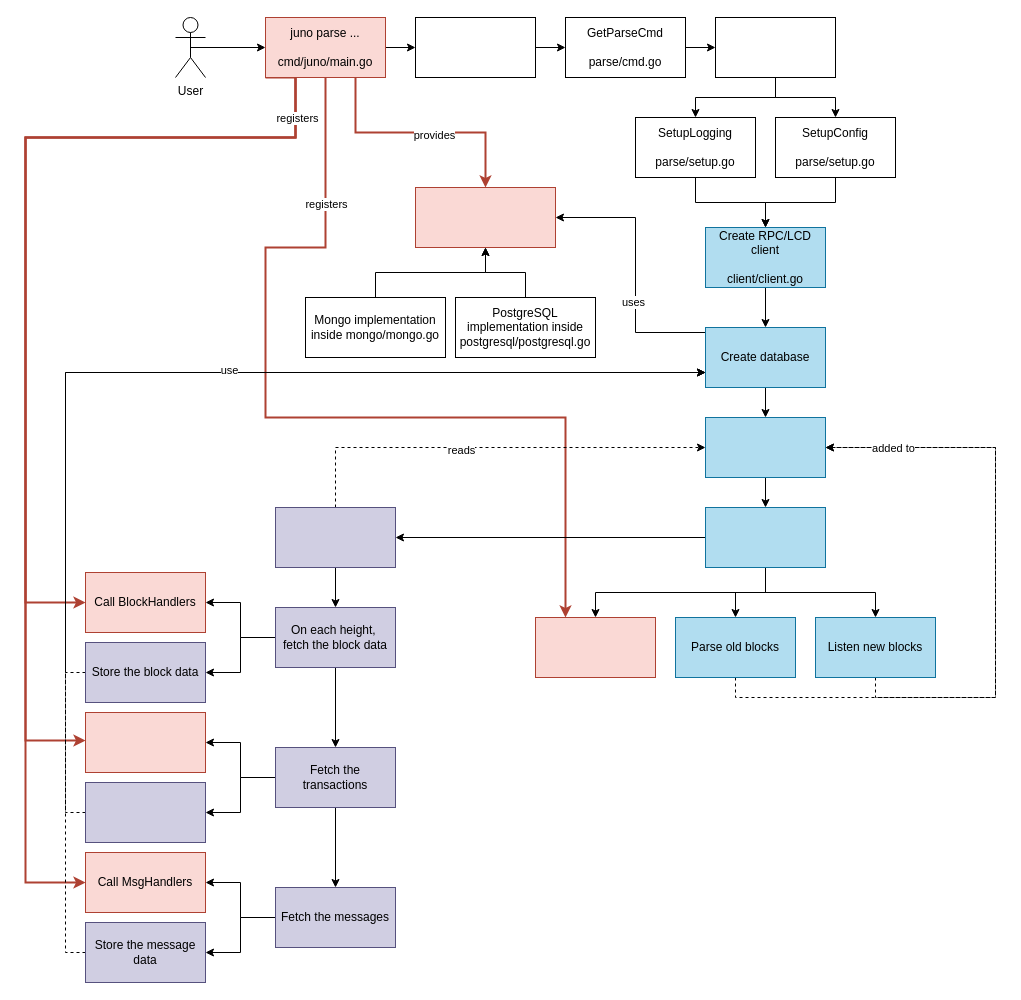
This 1021x1000 diagram has some shape labels left out. Each missing label, with the centre of its shape:
BuildDefaultExecutor executor/executor.go: (x=475, y=47)
Call TxHandlers: (x=145, y=742)
Create queue: (x=765, y=447)
Create workers: (x=765, y=537)
Database builder db/database.go: (x=485, y=217)
ParseCmdHandler parse/handler.go: (x=775, y=47)
Perform additional operations parse/setup.go: (x=595, y=647)
Store the transaction data: (x=145, y=812)
Worker worker/worker.go: (x=335, y=537)
